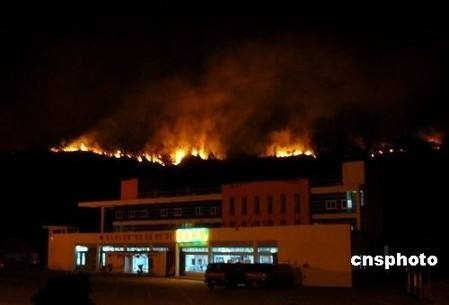fire: (53, 130, 223, 165), (268, 139, 316, 159)
